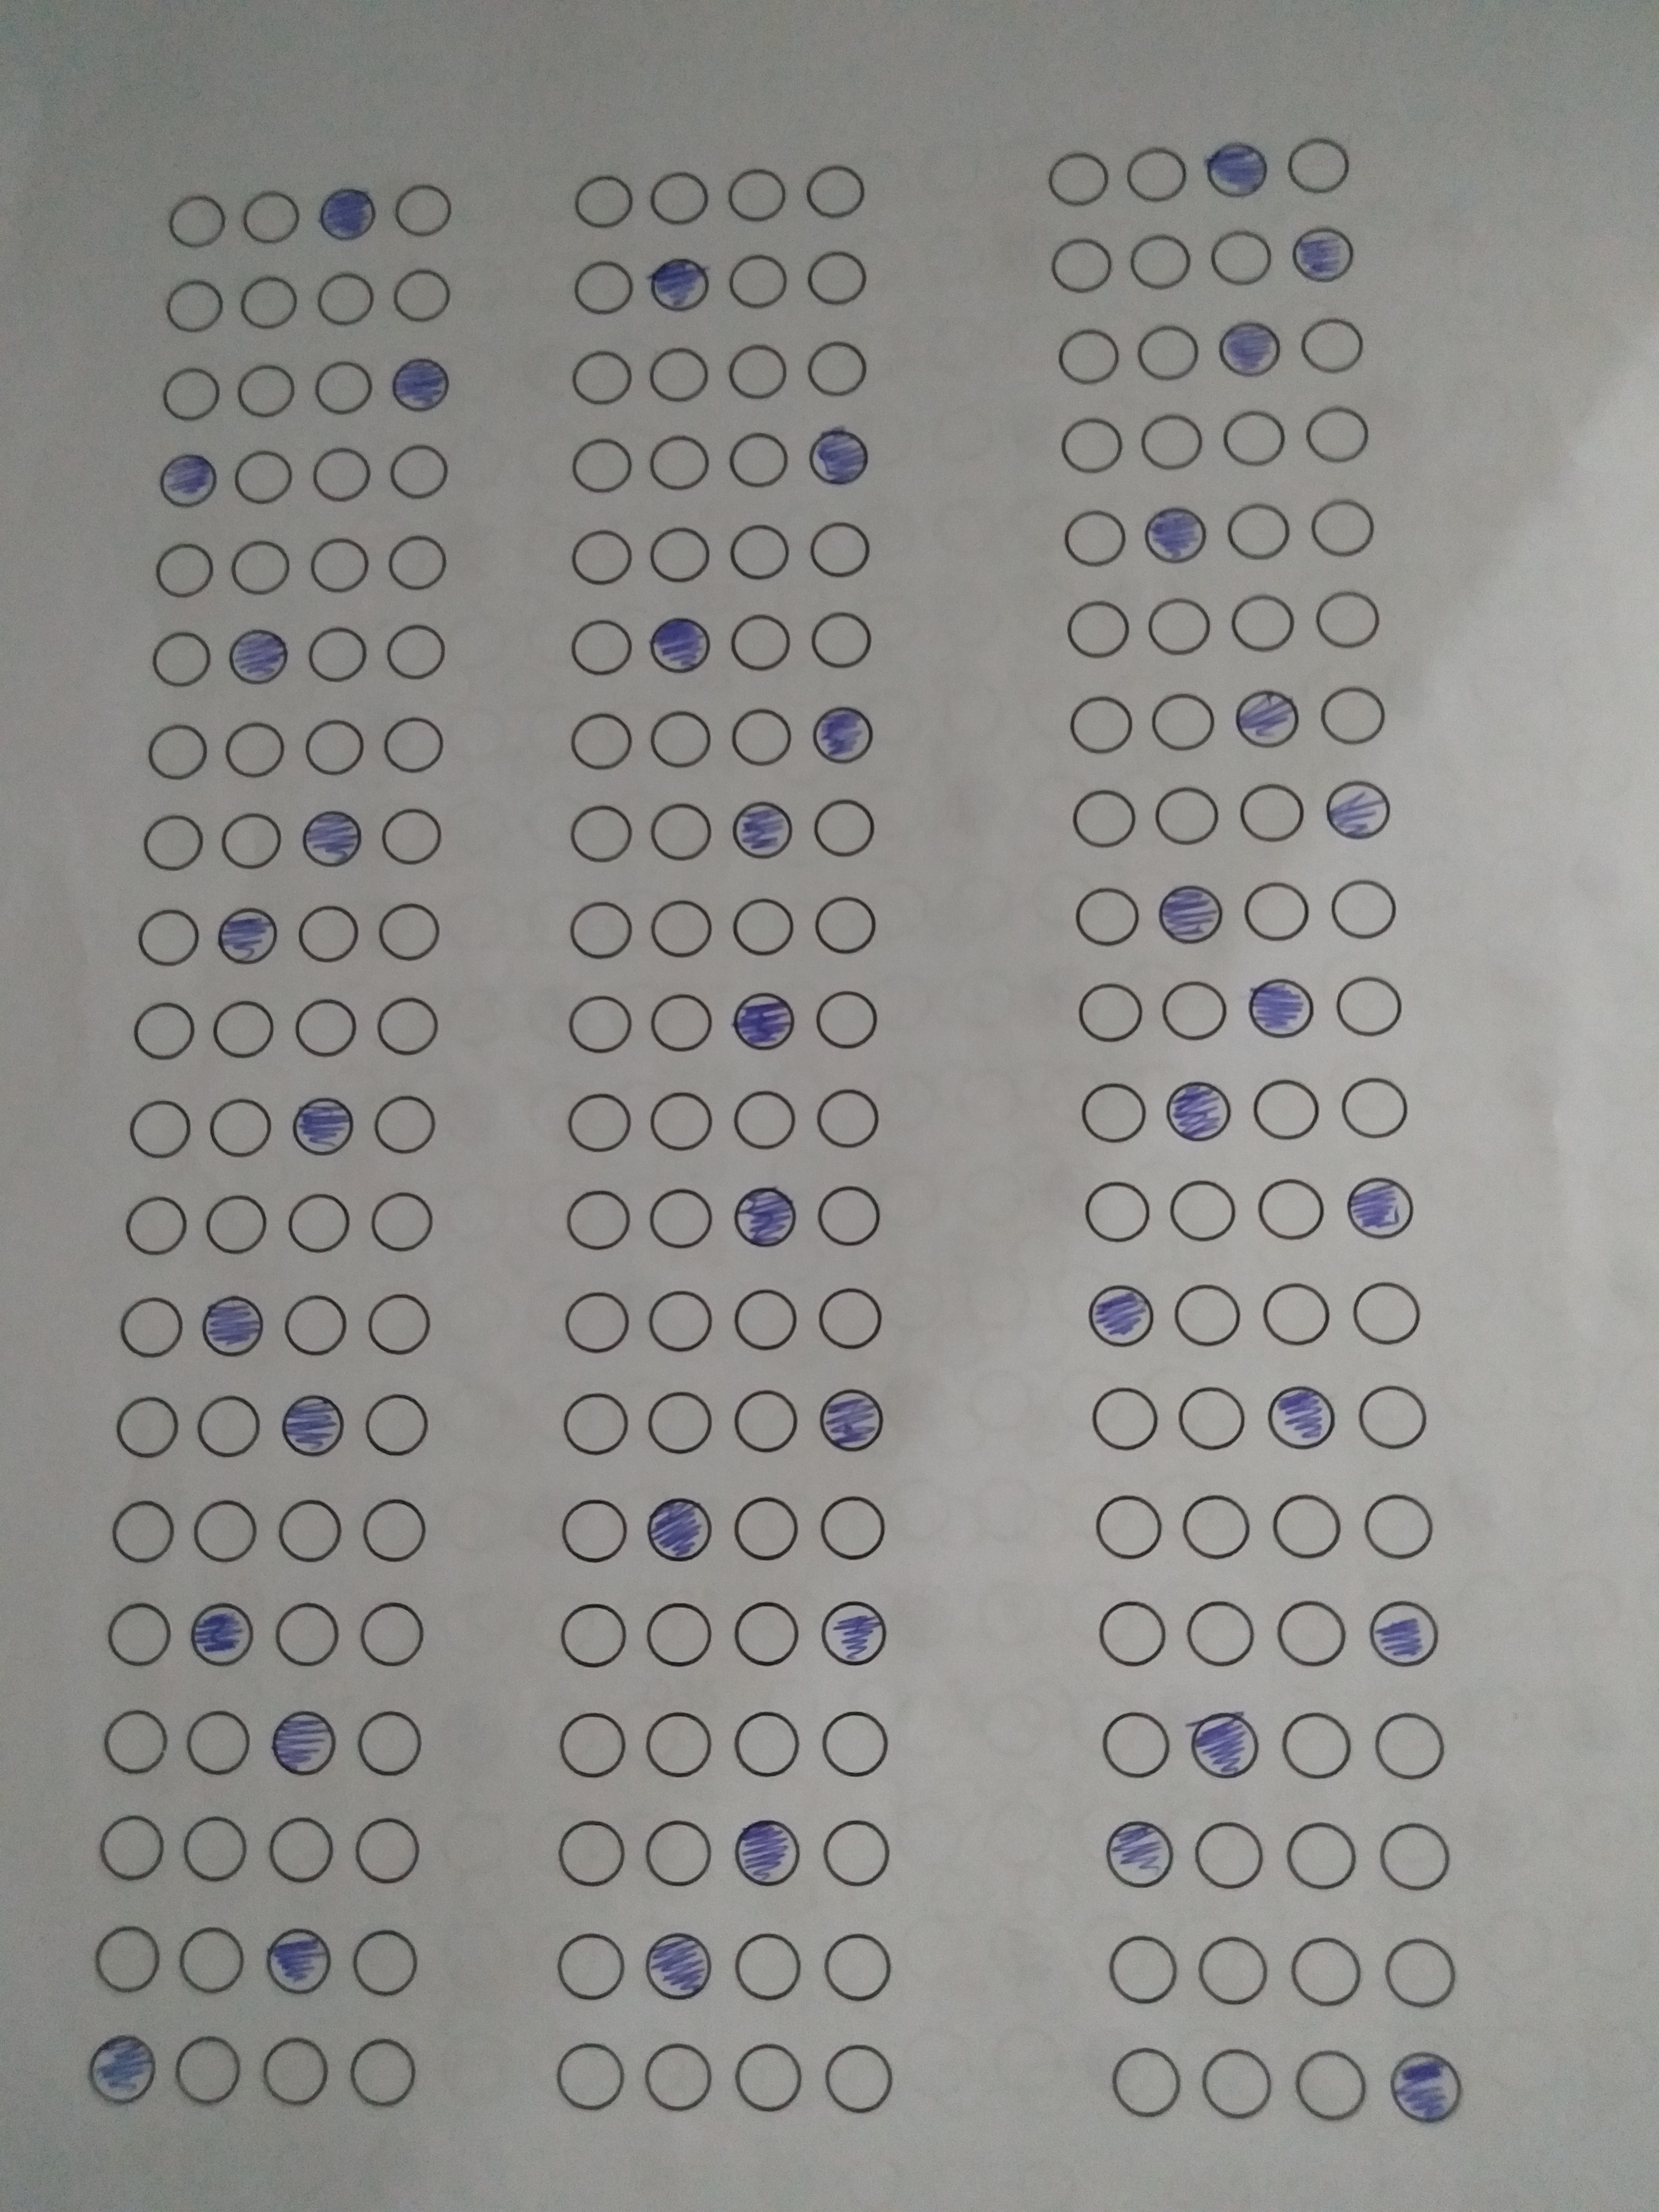not-c: (84, 1918, 167, 1994), (1091, 1489, 1173, 1564), (1178, 1597, 1260, 1672), (1344, 1273, 1425, 1348), (1171, 1275, 1253, 1350), (1243, 1078, 1324, 1153), (1190, 2048, 1274, 2121), (1190, 1935, 1274, 2008), (1384, 1937, 1467, 2010), (1176, 1487, 1260, 1561), (1267, 1484, 1351, 1557), (1356, 1381, 1439, 1454), (1251, 1282, 1335, 1355), (1155, 981, 1239, 1054), (1328, 970, 1412, 1043), (1070, 787, 1154, 860), (1290, 2048, 1371, 2121), (1101, 1935, 1183, 2008), (1284, 1935, 1366, 2008), (1279, 1824, 1361, 1897), (1188, 1822, 1270, 1895), (1093, 1709, 1175, 1782), (1089, 1599, 1171, 1672), (1173, 1381, 1255, 1454), (1272, 1601, 1354, 1674), (1272, 1710, 1354, 1784), (1371, 1712, 1453, 1785), (1371, 1820, 1453, 1893), (1363, 1489, 1445, 1562), (1253, 1177, 1335, 1251), (1340, 1069, 1422, 1143), (1075, 981, 1157, 1054), (1317, 878, 1399, 951), (1236, 880, 1317, 953), (1063, 881, 1145, 954), (1127, 232, 1209, 305), (1164, 1176, 1237, 1251), (94, 1810, 166, 1883), (1063, 505, 1134, 577), (1091, 1383, 1161, 1456), (1080, 1177, 1154, 1247), (390, 258, 467, 324), (153, 275, 230, 341), (153, 361, 230, 427), (232, 362, 308, 428), (305, 357, 382, 423), (221, 442, 298, 509), (221, 533, 298, 599), (298, 531, 375, 597), (298, 620, 375, 686), (145, 718, 221, 784), (223, 718, 300, 784), (300, 711, 376, 777), (380, 712, 457, 779), (563, 169, 640, 235), (800, 246, 877, 312), (718, 247, 795, 314), (565, 251, 641, 317), (638, 430, 714, 496), (558, 434, 634, 500), (807, 516, 884, 582), (563, 707, 640, 773), (812, 798, 889, 864), (563, 899, 640, 965), (643, 899, 720, 965), (814, 894, 890, 960), (816, 989, 892, 1055), (565, 1089, 641, 1155), (558, 1184, 634, 1251), (563, 1294, 640, 1360), (558, 1392, 634, 1458), (645, 1386, 721, 1453), (812, 1287, 889, 1353), (730, 1289, 807, 1355), (640, 1287, 716, 1353), (641, 1186, 718, 1252), (647, 1092, 723, 1158), (817, 1085, 894, 1151), (106, 1392, 183, 1458), (117, 1296, 193, 1362), (125, 1099, 202, 1165), (125, 998, 202, 1064), (220, 812, 296, 878), (206, 995, 282, 1061), (281, 1294, 357, 1360), (282, 1191, 359, 1258), (373, 996, 450, 1062), (376, 803, 453, 869), (293, 996, 369, 1062), (103, 1500, 179, 1566), (103, 1604, 179, 1670), (176, 1930, 253, 1996), (263, 2040, 340, 2106), (347, 1820, 423, 1886), (260, 1815, 336, 1881), (350, 1712, 427, 1778), (270, 1604, 347, 1670), (364, 1498, 441, 1564), (272, 1500, 349, 1566), (181, 1498, 258, 1564), (558, 1496, 634, 1562), (554, 1822, 631, 1888), (551, 2043, 627, 2109), (641, 2045, 718, 2111), (824, 2045, 901, 2111), (734, 1712, 810, 1778), (638, 1601, 714, 1667), (1303, 401, 1380, 467), (1223, 409, 1300, 475), (1222, 503, 1298, 570), (1148, 688, 1225, 754), (1060, 411, 1127, 484), (385, 178, 460, 244), (310, 270, 385, 336), (230, 273, 305, 340), (298, 439, 373, 505), (387, 531, 462, 597), (641, 162, 716, 228), (721, 164, 796, 230), (798, 160, 873, 226), (645, 341, 720, 408), (727, 340, 802, 406), (802, 338, 877, 404), (718, 427, 793, 493), (563, 524, 638, 590), (802, 604, 877, 671), (563, 611, 638, 678), (645, 705, 720, 772), (641, 801, 716, 867), (732, 897, 807, 963), (645, 989, 720, 1055), (730, 1388, 805, 1454), (728, 1089, 803, 1155), (816, 1181, 890, 1247), (115, 1197, 190, 1263), (129, 909, 204, 975), (134, 810, 209, 876), (202, 1188, 277, 1254), (361, 1292, 436, 1359), (375, 904, 450, 970), (101, 1709, 176, 1775), (349, 2041, 423, 2107), (176, 1817, 251, 1883), (552, 1932, 627, 1998), (732, 2045, 807, 2111), (821, 1935, 896, 2001), (735, 1935, 810, 2001), (824, 1818, 899, 1885), (638, 1822, 713, 1888), (732, 1498, 807, 1564), (819, 1496, 894, 1562), (1110, 2048, 1185, 2114), (1211, 230, 1286, 296), (1298, 317, 1373, 383), (1307, 500, 1382, 566), (1148, 596, 1223, 662), (1155, 782, 1230, 848), (1312, 587, 1387, 653), (159, 186, 235, 251), (145, 535, 221, 599), (647, 521, 723, 585), (565, 805, 641, 869), (565, 995, 641, 1059), (190, 1393, 267, 1458), (207, 1097, 284, 1162), (368, 1190, 444, 1254), (354, 1932, 430, 1996), (554, 1601, 631, 1665), (730, 1602, 807, 1667), (1065, 697, 1141, 761), (1229, 590, 1305, 655), (1040, 150, 1119, 212), (1079, 1080, 1147, 1151), (227, 186, 301, 251), (385, 439, 460, 503), (383, 617, 458, 681), (138, 627, 213, 691), (559, 343, 634, 408), (727, 521, 802, 585), (720, 608, 795, 672), (728, 705, 803, 770), (364, 1393, 439, 1458), (366, 1096, 441, 1160), (288, 899, 362, 963), (174, 2038, 249, 2102), (178, 1709, 253, 1773), (359, 1602, 434, 1667), (556, 1714, 631, 1778), (641, 1710, 716, 1775), (824, 1710, 899, 1775), (1236, 780, 1310, 845), (1319, 685, 1394, 749), (1281, 134, 1358, 197), (1063, 594, 1131, 664), (1122, 143, 1192, 211), (1047, 233, 1117, 300), (1054, 326, 1127, 388), (1136, 319, 1202, 387), (1143, 411, 1208, 475)
taken-c: (807, 1595, 890, 1669), (1363, 1594, 1446, 1667), (1182, 1707, 1265, 1780), (636, 1928, 720, 2001), (78, 2033, 162, 2106), (256, 1925, 340, 1998), (260, 1707, 343, 1780), (638, 1493, 720, 1566), (1256, 1378, 1338, 1451), (1385, 2048, 1467, 2121), (1096, 1817, 1178, 1890), (725, 1817, 807, 1890), (274, 1388, 350, 1465), (1079, 1280, 1161, 1352), (183, 1597, 256, 1672), (814, 1385, 889, 1454), (195, 1294, 270, 1362), (305, 178, 382, 244), (380, 348, 457, 415), (216, 622, 293, 688), (204, 900, 281, 967), (1283, 221, 1359, 287), (725, 988, 802, 1054), (800, 700, 877, 766), (727, 1186, 802, 1252), (148, 446, 223, 512), (293, 808, 368, 874), (1199, 138, 1274, 204), (1211, 319, 1286, 385), (1148, 881, 1223, 948), (1241, 975, 1316, 1042), (1344, 1174, 1419, 1240), (645, 611, 720, 678), (796, 421, 871, 488), (282, 1096, 359, 1160), (1159, 1078, 1236, 1143), (721, 798, 798, 862), (1140, 502, 1215, 566), (1230, 686, 1305, 751), (1321, 775, 1396, 840), (645, 251, 713, 315)
